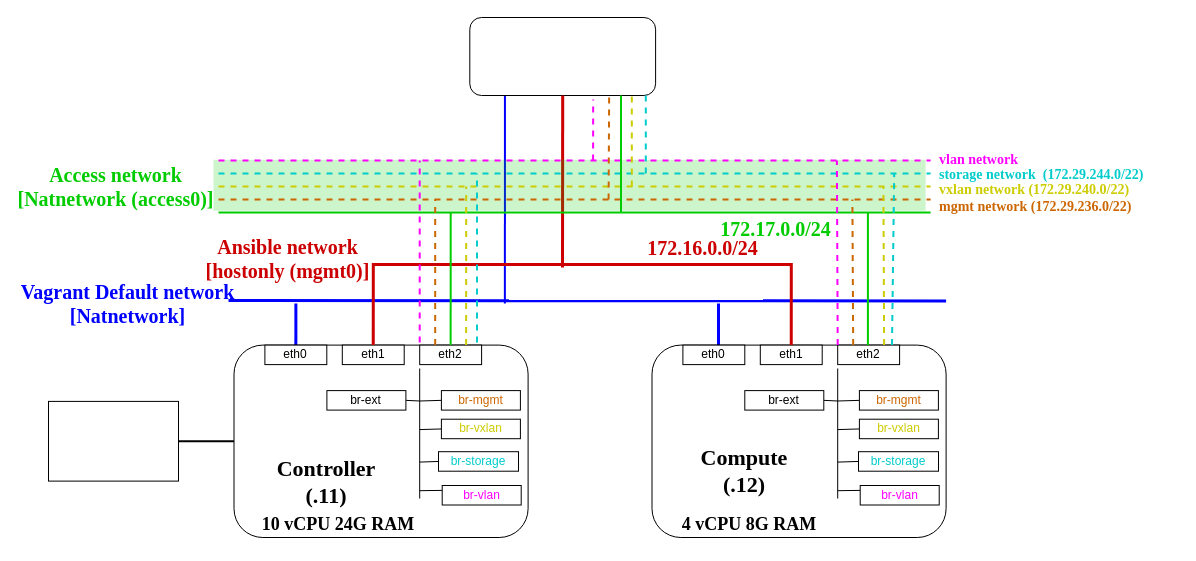
Some shapes in this 1196 by 561 pixel diagram are drawn without their labels. The shapes that lost their labels are listed below. From the top down, each one's centre as x and y in pixels, then its label:
(562,56): Master (.10)
(113,440): D:\tmp\sdb0.vdi (extra strage)
